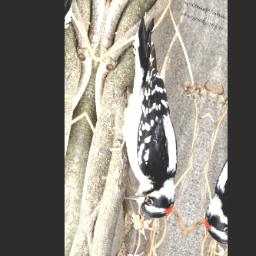Woodpecker: (100, 12, 208, 225)
